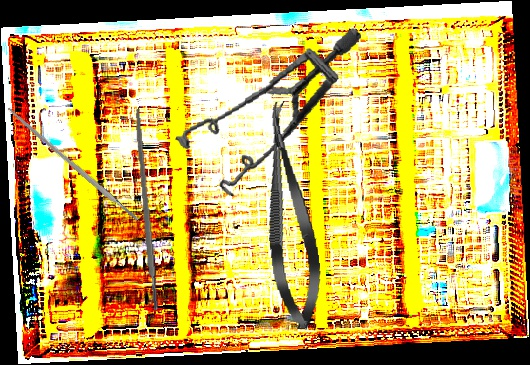Micro Scissor: (252, 99, 328, 332)
Scalpel Handle: (5, 105, 140, 224), (132, 108, 160, 311)
Speculum: (162, 26, 381, 204)
